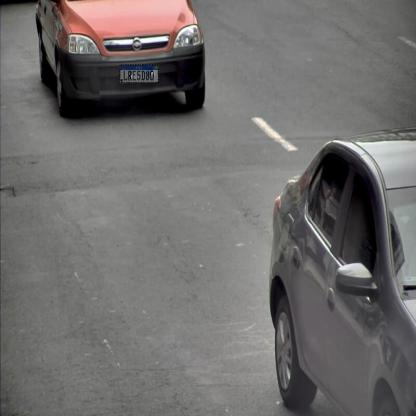PlacaM: (119, 65, 158, 83)
